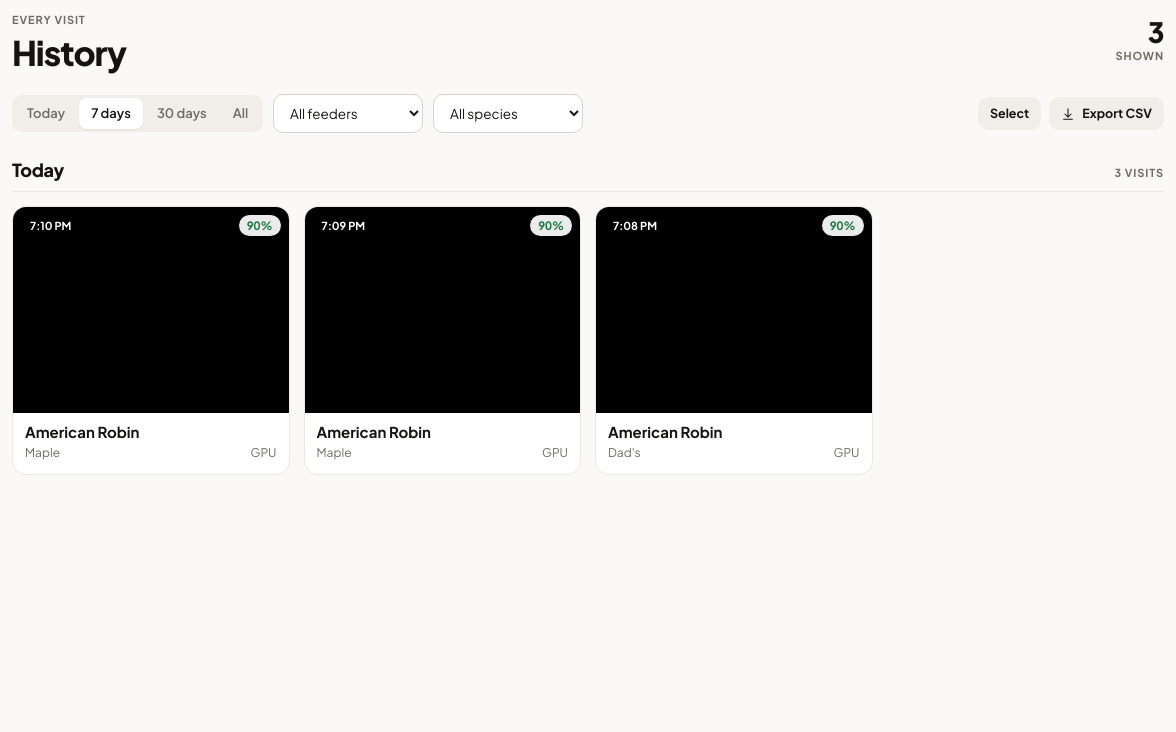
Test: History select mode › lets a feeder owner tick only their own feeder's sightings
What coordinates should you click on to do the following:
click the button "Select"
I would click on:
 (1010, 114)
Its box is [978,97,1041,130].
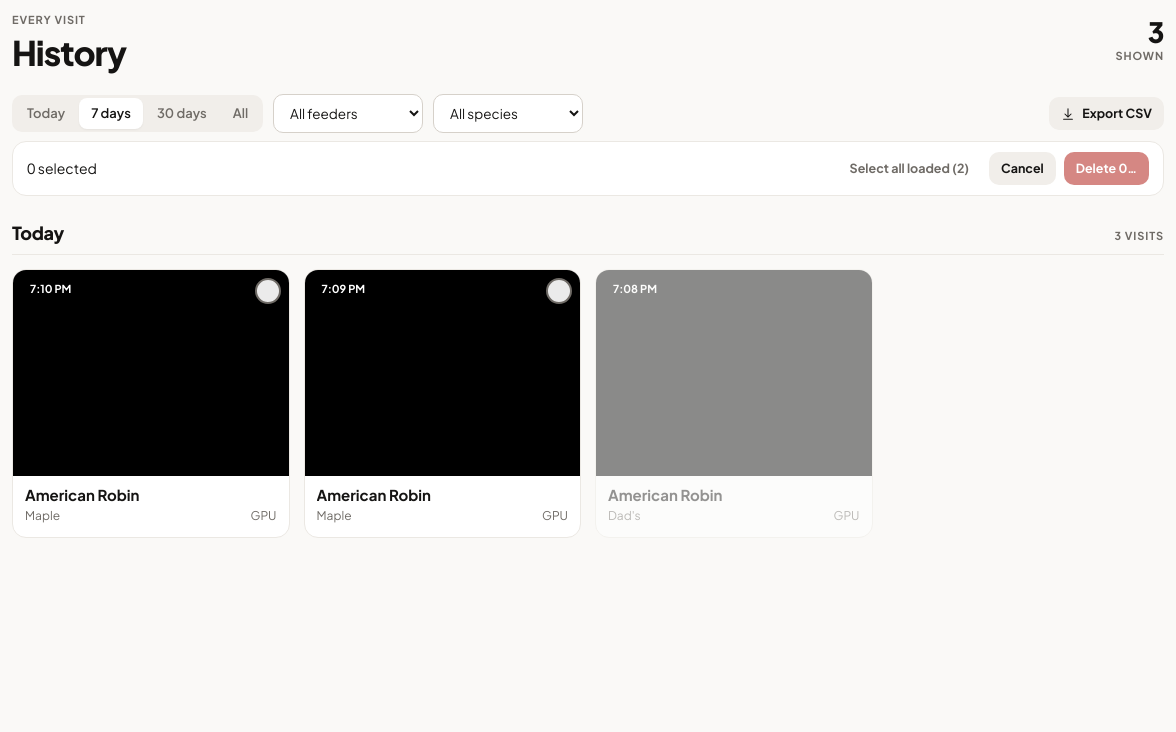
Expected: the button "7:08 PM American Robin Dad's GPU" is disabled, [595,268,872,538]
What coordinates should you click on to do the following:
click the button "Select all loaded (2)"
I would click on:
 (909, 169)
Its box is [838,152,981,185].
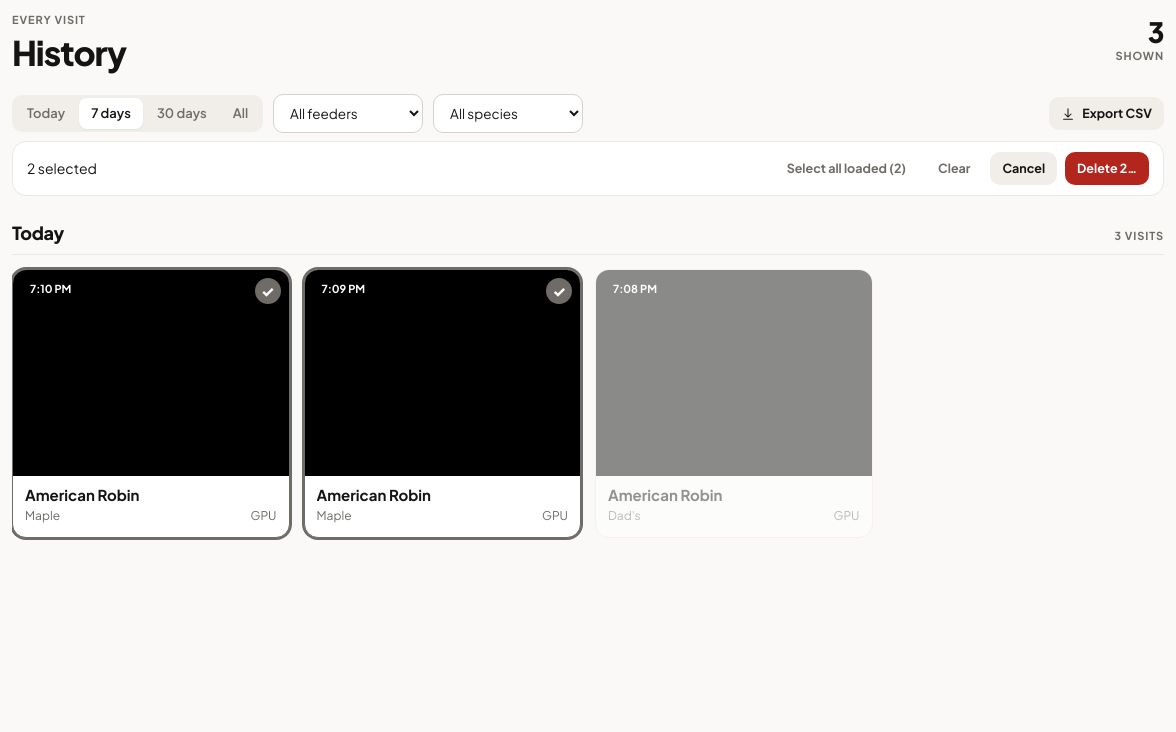
Expected: the text "2 selected" is shown, [27,158,97,179]
